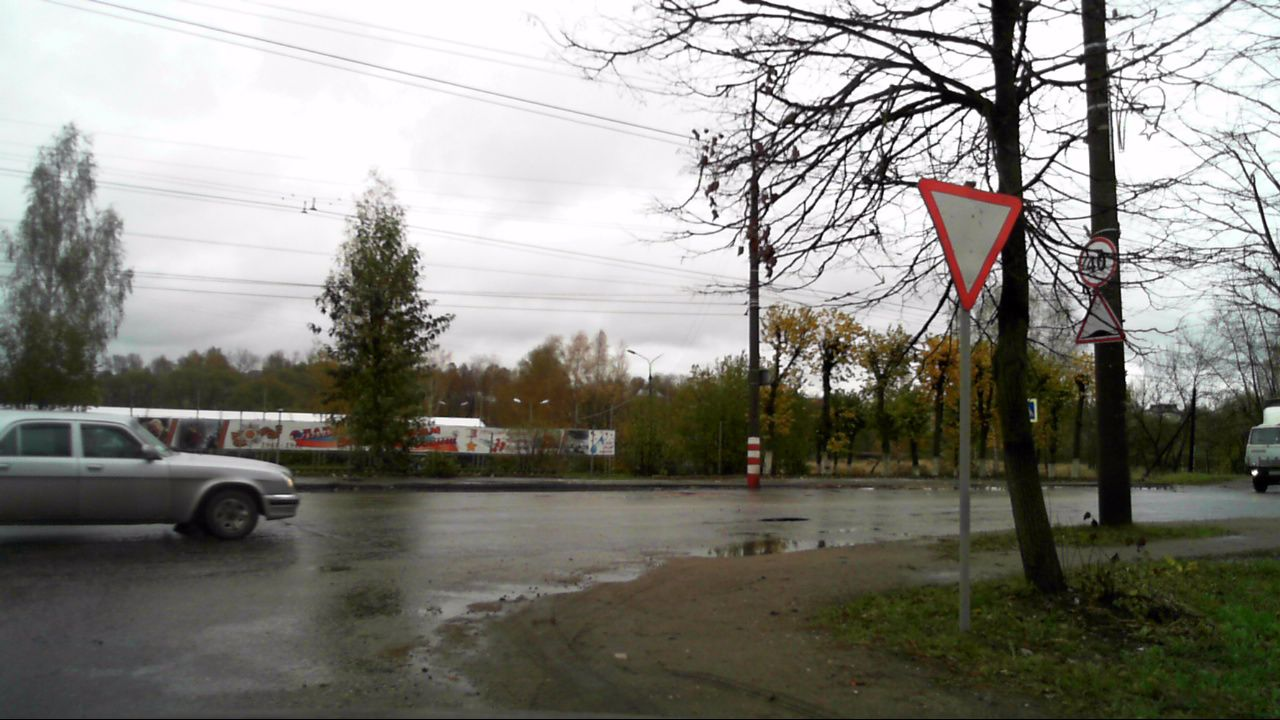speed_warning_40: (1077, 232, 1118, 290)
